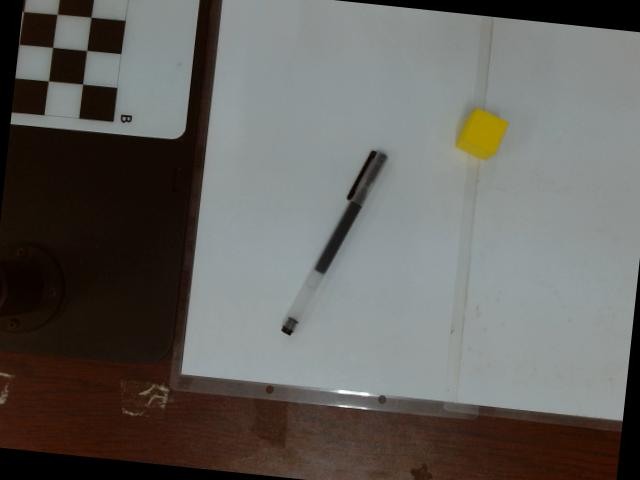PEN: (273, 147, 389, 335)
